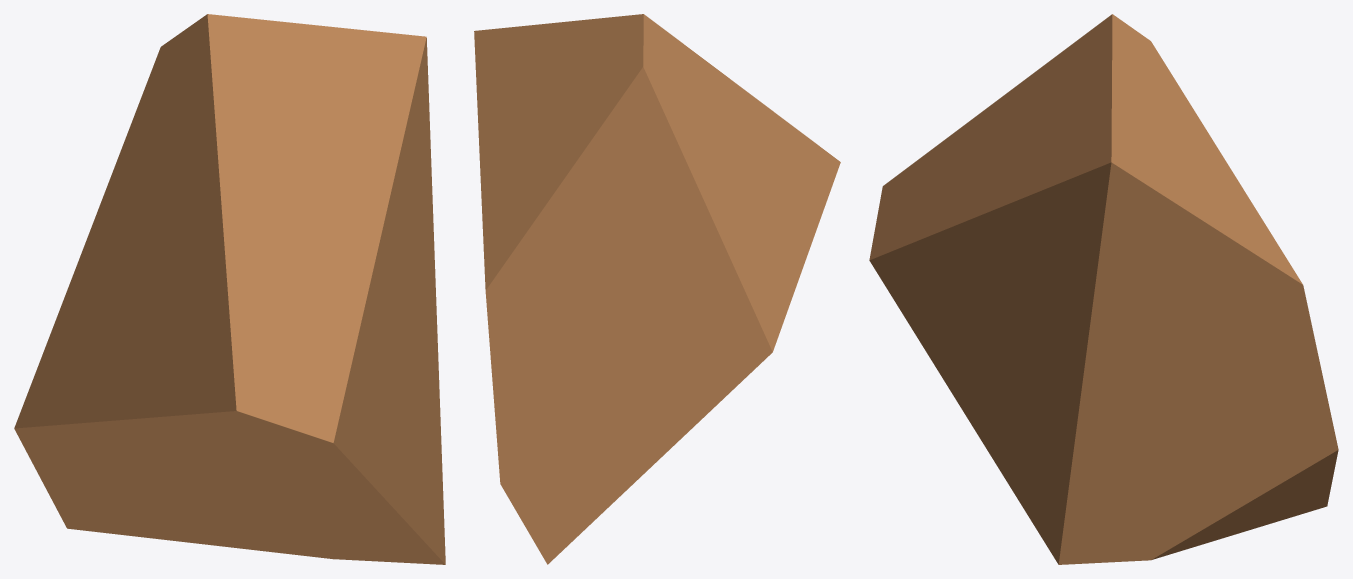
Rendered from asteroid_2.glb.
The picture shows the model from 3 angles, left to right: view 1: azimuth 30°, elevation 25°; view 2: azimuth 150°, elevation 25°; view 3: azimuth 270°, elevation 25°; orthographic projection. The views are drawn at different scales.
Parts seen in each view (by area): view 1: Asteriod_cell_2; view 2: Asteriod_cell_2; view 3: Asteriod_cell_2.
Boxes of the visible parts, x1,y1,x2,y2 form: Asteriod_cell_2: (14,14,445,564); Asteriod_cell_2: (474,14,840,564); Asteriod_cell_2: (869,14,1338,564).
Size of the model in its own units: 0.9534 by 1.39 by 1.2.
